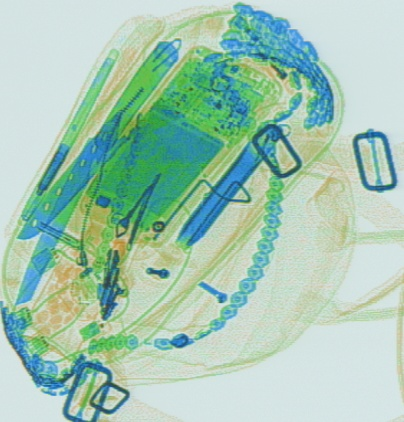knife: (15, 38, 184, 240), (15, 128, 106, 302)
lighter: (247, 34, 318, 108)
